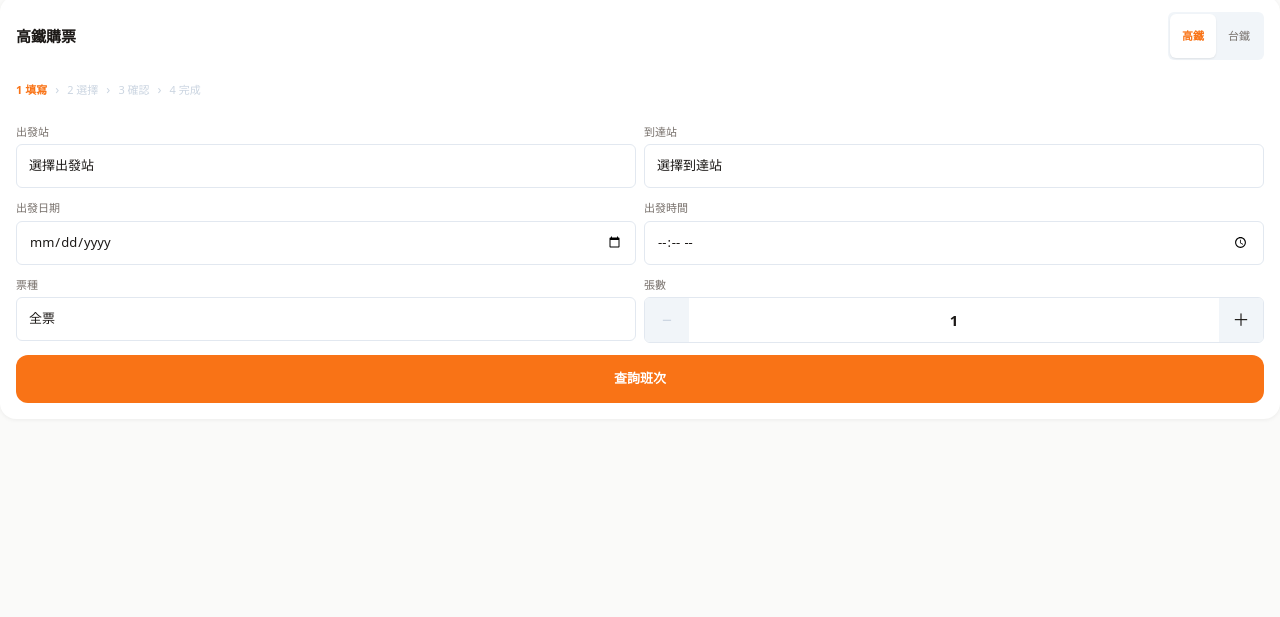
TicketBooking › 已滿班次禁用，無法選取
The width and height of the screenshot is (1280, 617).
// 填寫表單並進入 step 2
Select "台北" in the 1st dropdown with class "field-select" at (326, 166), box [16,144,636,188]
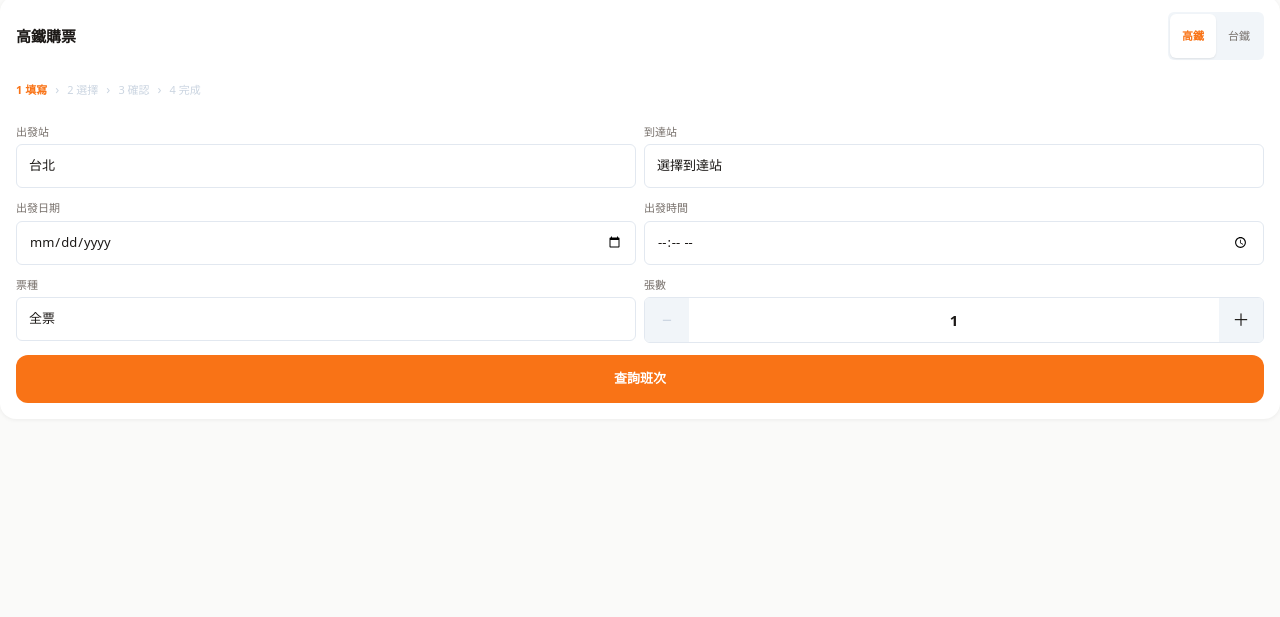
Select "左營" in the 2nd dropdown with class "field-select" at (954, 166), box [644,144,1264,188]
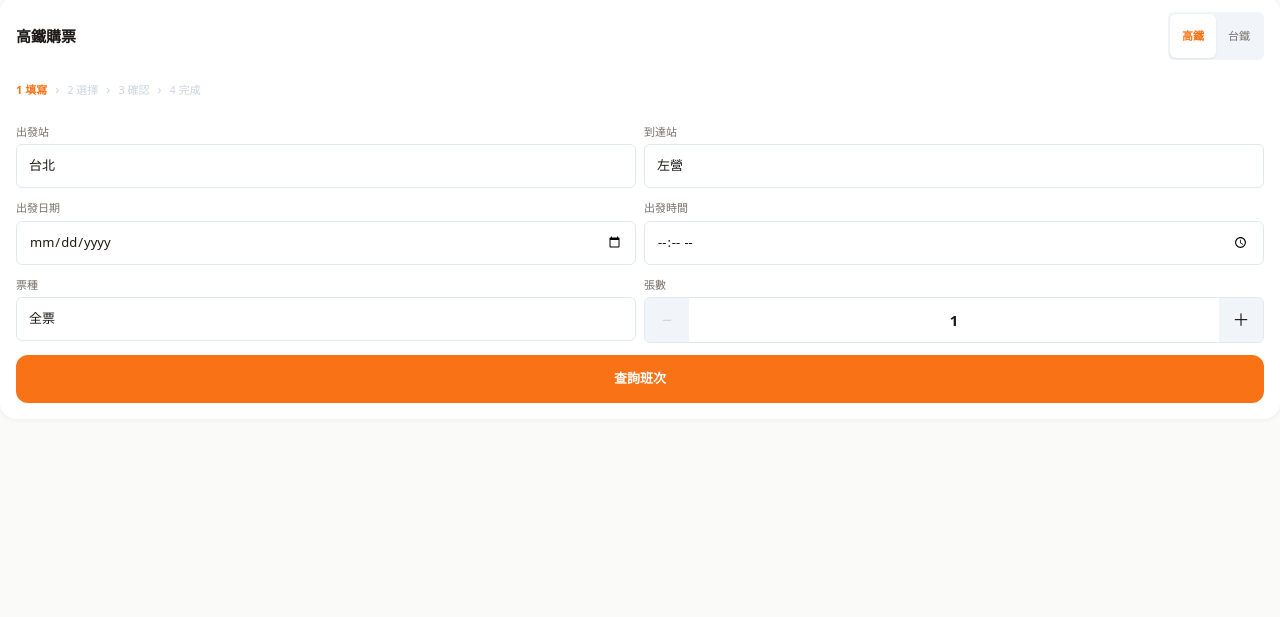
Type "2026-08-01" into the date field named "出發日期" at (326, 242), box [16,220,636,264]
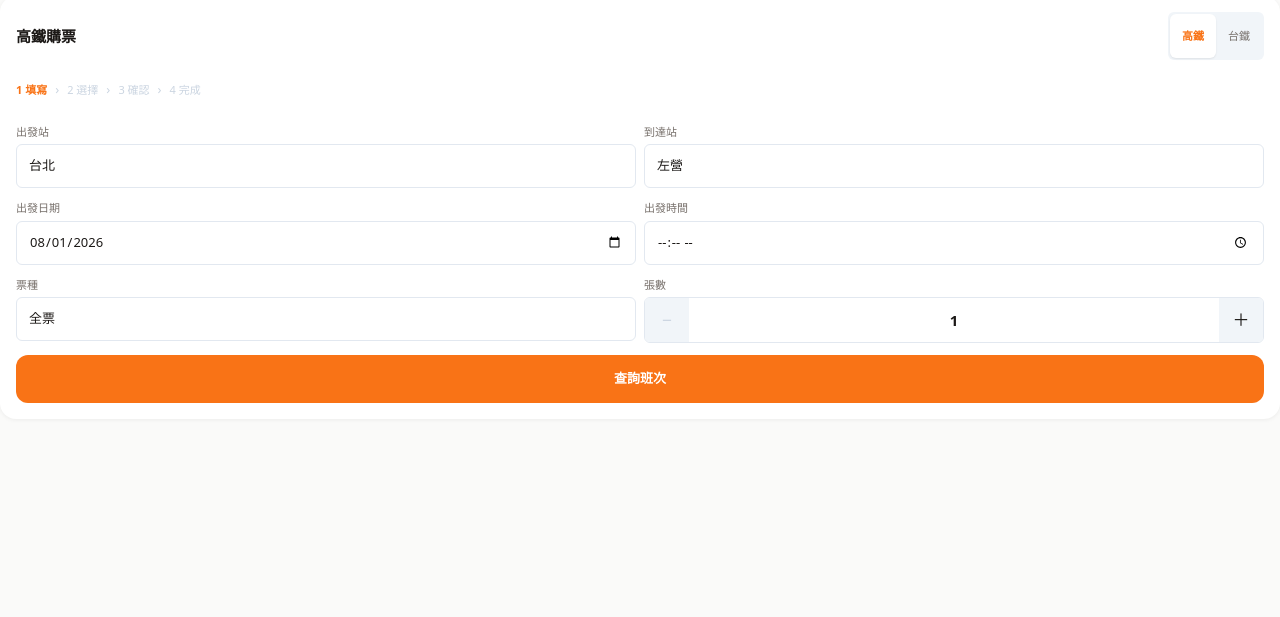
Click the button "查詢班次" at (640, 379), box [16,355,1264,403]
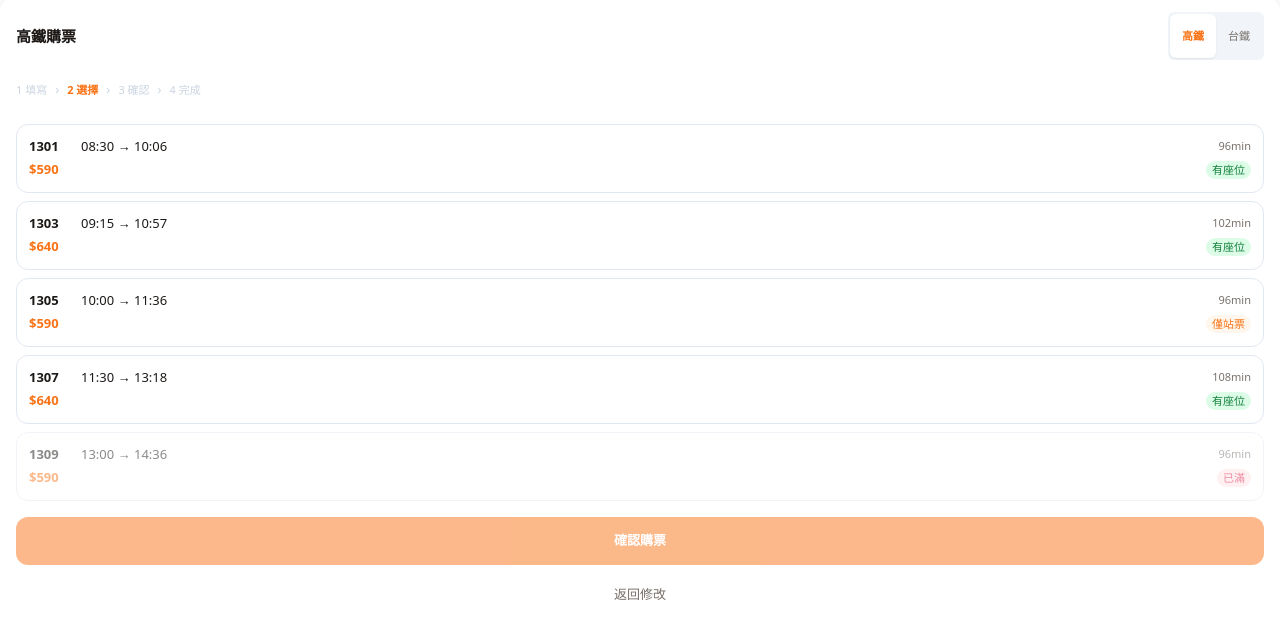
Expected: the button with class "disabled" is disabled, [16,432,1264,500]
